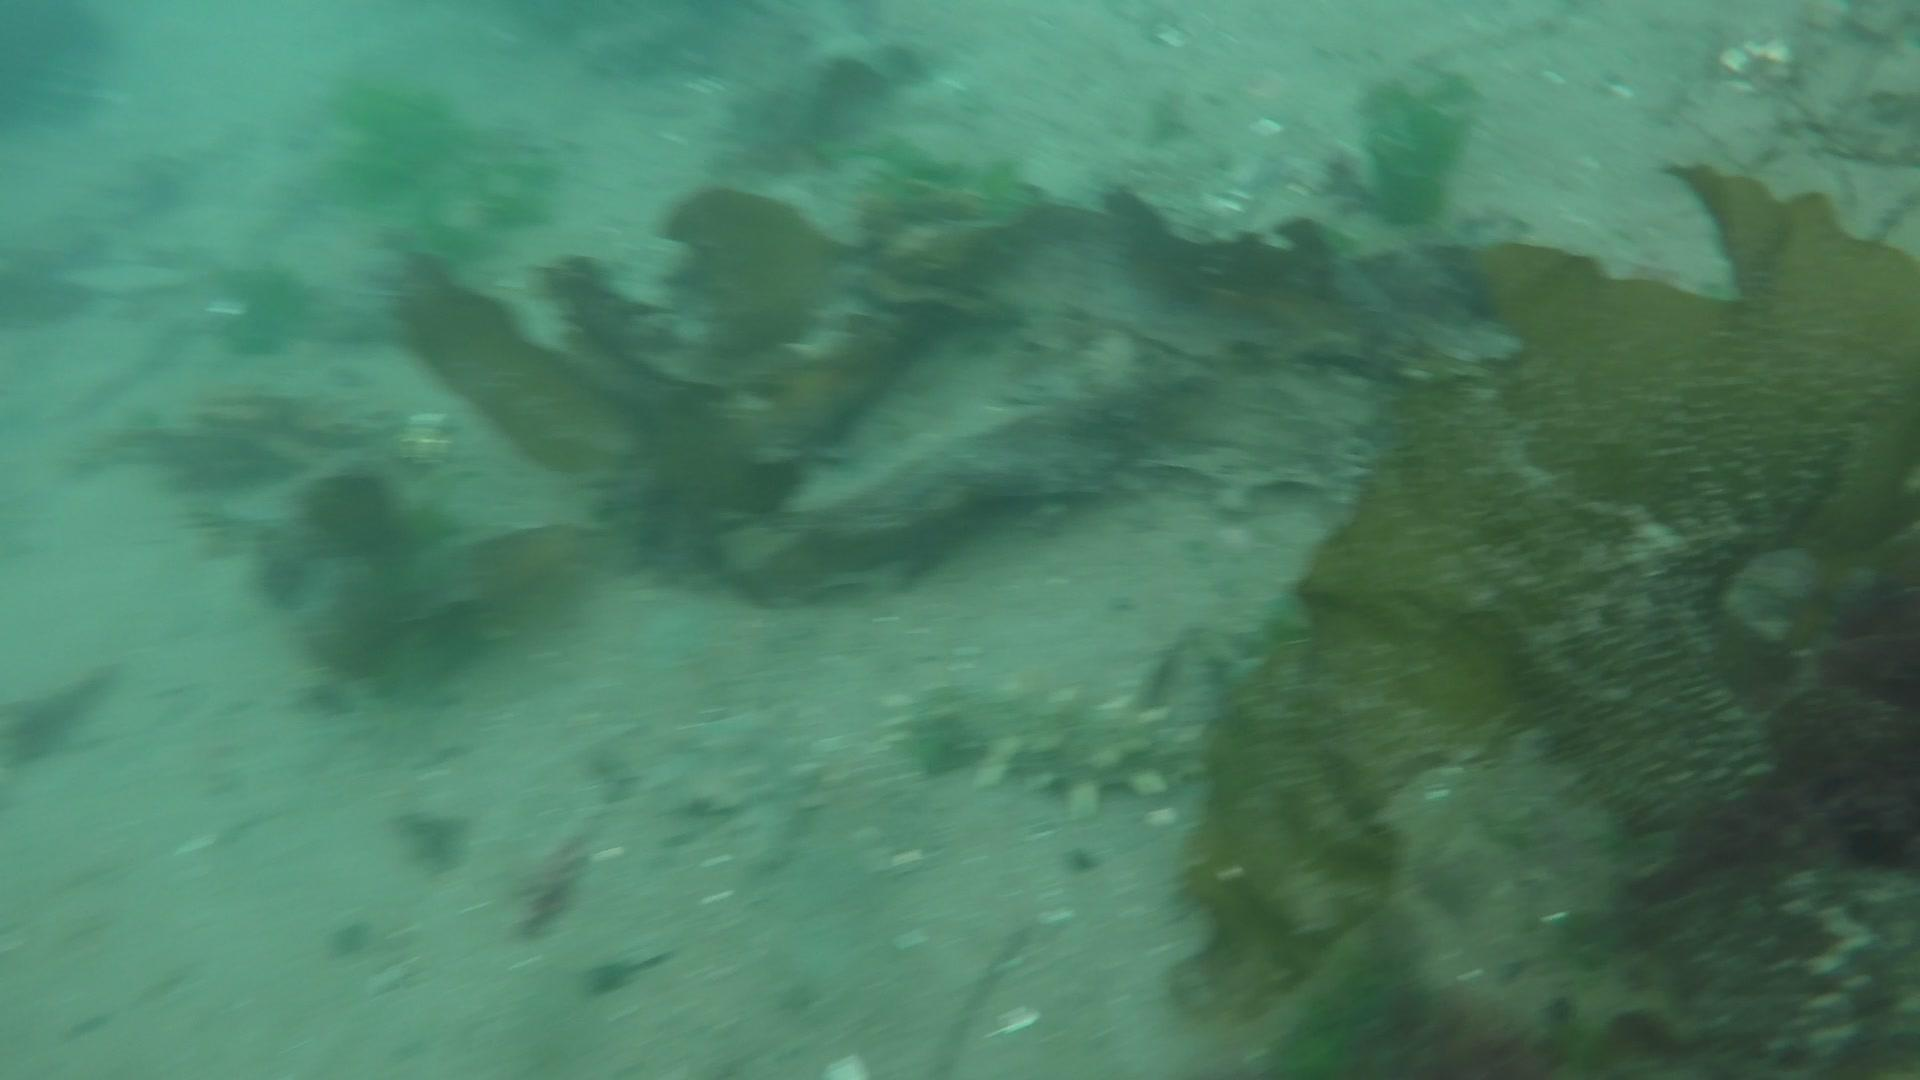holothurian: (884, 659, 1218, 825)
